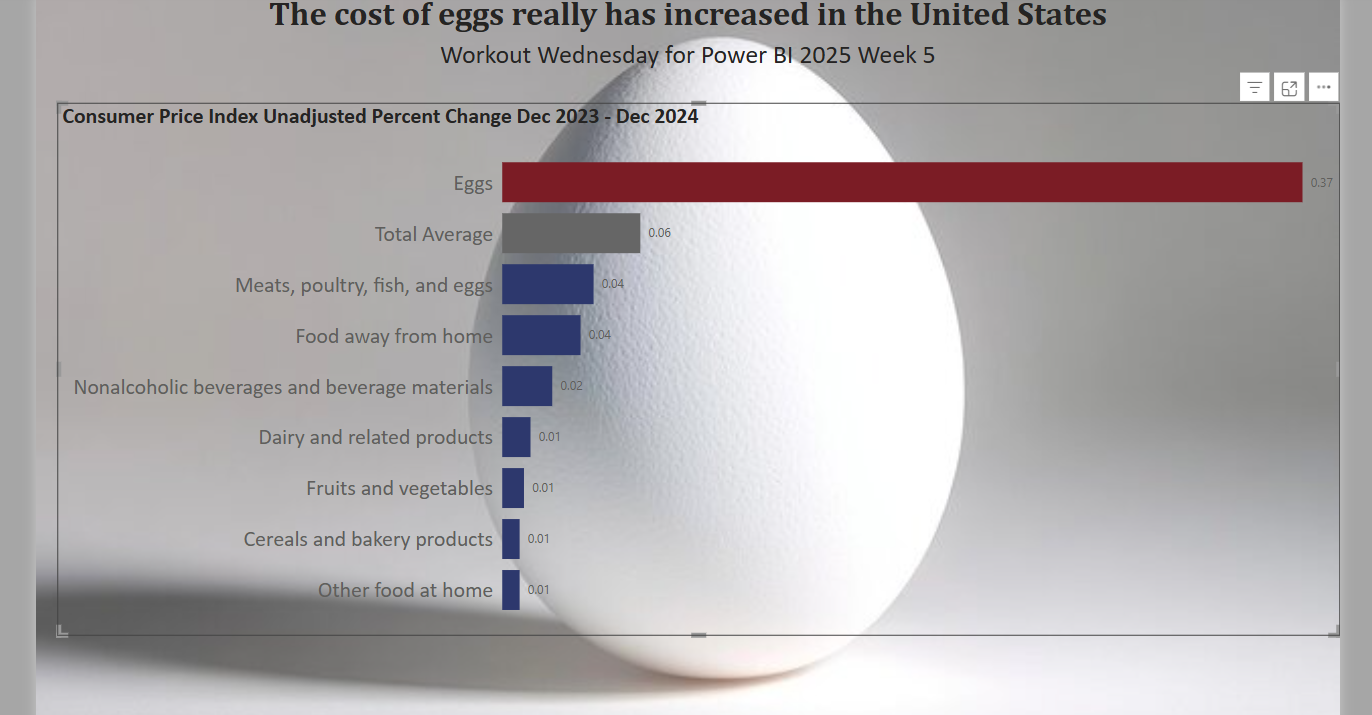

This screenshot's page, from the dashboard's own definition file:
{"tool":"powerbi","page":{"name":"Page 1","canvas":[1280,720],"ordinal":0},"visuals":[{"type":"textbox","title":"      The cost of eggs really has increased in the United States","box":[0,0,1279.8,44.2],"z":0},{"type":"textbox","title":"Workout Wednesday for Power BI 2025 Week 5 ","box":[0,44.2,1279.8,40.5],"z":1000},{"type":"clusteredBarChart","title":"Consumer Price Index Unadjusted Percent Change Dec 2023 - Dec 2024","fields":{"Category":["CPI 2024 change.item"],"Y":["CPI 2024 change.unadjusted Percent changes"]},"box":[20.9,106.7,1258.9,523.9],"z":2000}]}

Visuals, with their boxes on the page's 1280x720 design canvas (x1, y1, x2, y2). These are canvas units, not pixel positions in the 1372x715 screenshot, which may show the page scaled, cropped or inside an application window:
"      The cost of eggs really has increased in the United States" textbox: [0,0,1280,44]
"Workout Wednesday for Power BI 2025 Week 5 " textbox: [0,44,1280,85]
"Consumer Price Index Unadjusted Percent Change Dec 2023 - Dec 2024" clusteredBarChart: [21,107,1280,631]
